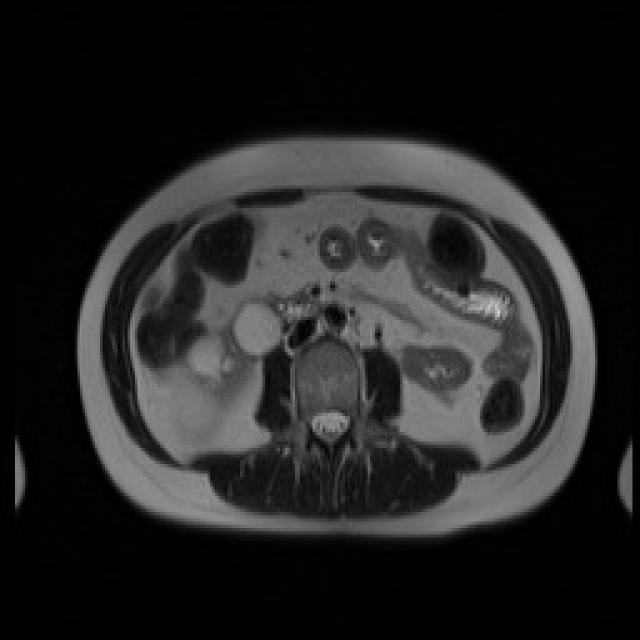sag: (184, 300, 285, 403)
sol: (402, 343, 472, 392)
